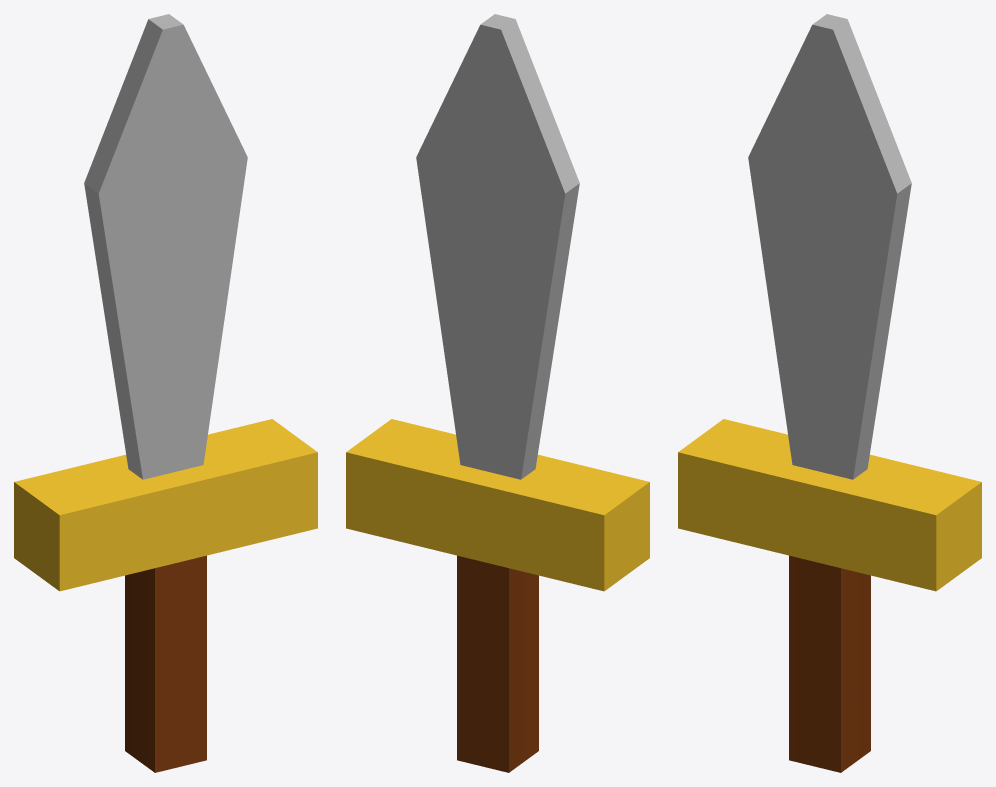
The model's file is sword_basic.fbx.
The picture shows the model from 3 angles, left to right: view 1: azimuth 30°, elevation 25°; view 2: azimuth 150°, elevation 25°; view 3: azimuth 330°, elevation 25°; orthographic projection.
Parts seen in each view (by area): view 1: Cube; view 2: Cube; view 3: Cube.
Part boxes in pixels (box(x1,y1,x2,y2)): Cube: box(14, 14, 317, 772); Cube: box(346, 14, 649, 772); Cube: box(678, 14, 981, 772).
Size of the model in its own units: 92.13 by 250 by 28.16.
